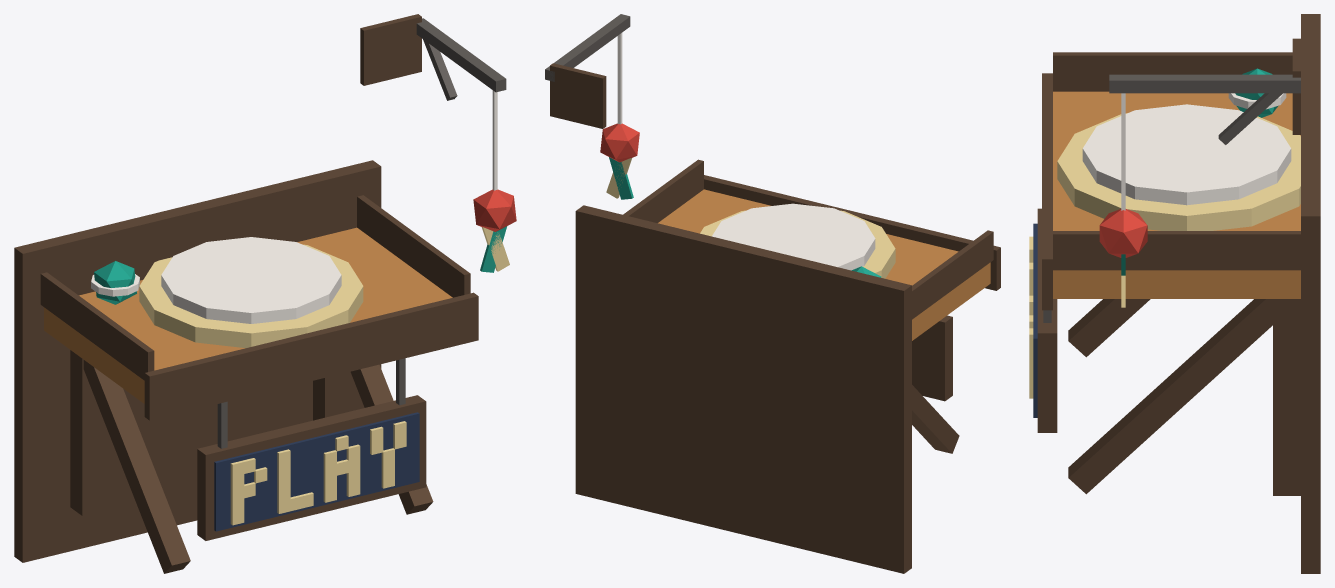
Rendered from CatCafe_Furniture_WallPerch_Entertainer.glb.
3 renders of one model, left to right at view 1: azimuth 30°, elevation 25°; view 2: azimuth 150°, elevation 25°; view 3: azimuth 270°, elevation 25°, orthographic. The views are drawn at different scales.
Visible parts, largest first — view 1: CatCafe_Furniture_WallPerch_Entertainer, CatCafe_Furniture_WallPerch_Entertainer_Toy; view 2: CatCafe_Furniture_WallPerch_Entertainer, CatCafe_Furniture_WallPerch_Entertainer_Toy; view 3: CatCafe_Furniture_WallPerch_Entertainer, CatCafe_Furniture_WallPerch_Entertainer_Toy.
Boxes of the visible parts, x1,y1,x2,y2 form: CatCafe_Furniture_WallPerch_Entertainer: (14,14,506,573); CatCafe_Furniture_WallPerch_Entertainer_Toy: (473,90,516,272); CatCafe_Furniture_WallPerch_Entertainer: (545,14,1000,573); CatCafe_Furniture_WallPerch_Entertainer_Toy: (600,33,639,199); CatCafe_Furniture_WallPerch_Entertainer: (1029,14,1320,573); CatCafe_Furniture_WallPerch_Entertainer_Toy: (1099,93,1147,307).
Bounding box in the file's own units: 3.93 × 4.1 × 2.07.
Materials: 1 (1 with a texture image).
